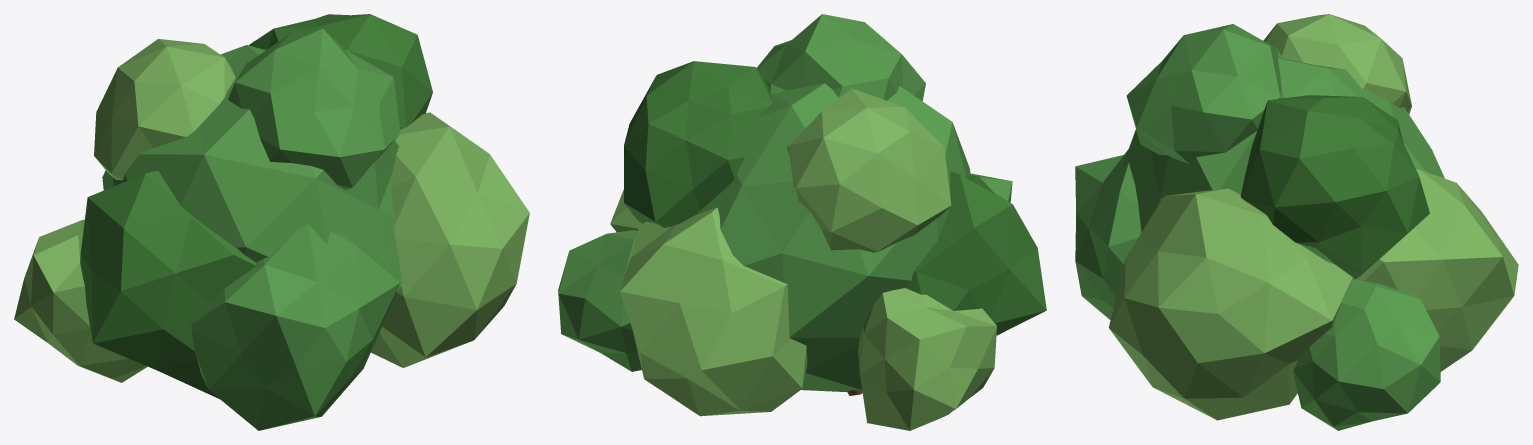
File: low-poly-bush.glb
The picture shows the model from 3 angles, left to right: view 1: azimuth 30°, elevation 25°; view 2: azimuth 150°, elevation 25°; view 3: azimuth 270°, elevation 25°; orthographic projection. The views are drawn at different scales.
Parts seen in each view (by area): view 1: foliage_5, foliage_2, foliage_1, foliage_3, foliage_8, foliage_7, foliage_10, foliage_6; view 2: foliage_1, foliage_4, foliage_7, foliage_6, foliage_10, foliage_3, foliage_8, foliage_9, foliage_2, foliage_5; view 3: foliage_2, foliage_6, foliage_9, foliage_8, foliage_4, foliage_1, foliage_5, foliage_7.
Boxes of the visible parts, x1=… form: foliage_5: x1=191, y1=224, x2=399, y2=430; foliage_2: x1=371, y1=112, x2=529, y2=367; foliage_1: x1=102, y1=45, x2=402, y2=291; foliage_3: x1=80, y1=170, x2=255, y2=398; foliage_8: x1=228, y1=28, x2=400, y2=189; foliage_7: x1=94, y1=39, x2=235, y2=180; foliage_10: x1=14, y1=219, x2=147, y2=382; foliage_6: x1=249, y1=14, x2=432, y2=129; foliage_1: x1=697, y1=83, x2=970, y2=392; foliage_4: x1=620, y1=207, x2=807, y2=416; foliage_7: x1=787, y1=88, x2=951, y2=252; foliage_6: x1=624, y1=61, x2=772, y2=227; foliage_10: x1=858, y1=288, x2=996, y2=430; foliage_3: x1=905, y1=171, x2=1046, y2=335; foliage_8: x1=757, y1=14, x2=925, y2=100; foliage_9: x1=558, y1=230, x2=641, y2=371; foliage_2: x1=610, y1=189, x2=641, y2=232; foliage_5: x1=970, y1=173, x2=1012, y2=202; foliage_2: x1=1109, y1=188, x2=1352, y2=420; foliage_6: x1=1240, y1=95, x2=1429, y2=279; foliage_9: x1=1293, y1=279, x2=1440, y2=430; foliage_8: x1=1126, y1=24, x2=1284, y2=164; foliage_4: x1=1353, y1=169, x2=1518, y2=371; foliage_1: x1=1122, y1=58, x2=1444, y2=263; foliage_5: x1=1075, y1=149, x2=1141, y2=319; foliage_7: x1=1263, y1=14, x2=1411, y2=114.
Size of the model in its own units: 1.26 by 0.9954 by 1.16.
